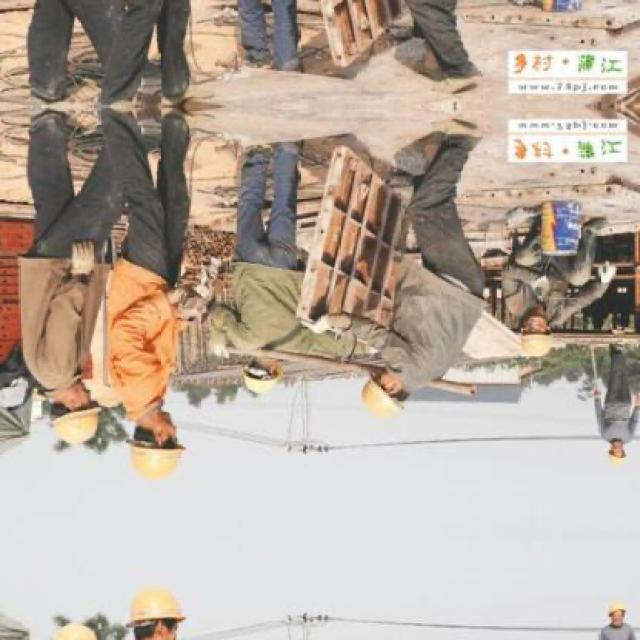con casco: (122, 378, 199, 498), (216, 336, 303, 416), (368, 371, 477, 429), (16, 392, 108, 460), (566, 417, 640, 487), (497, 315, 555, 375)
